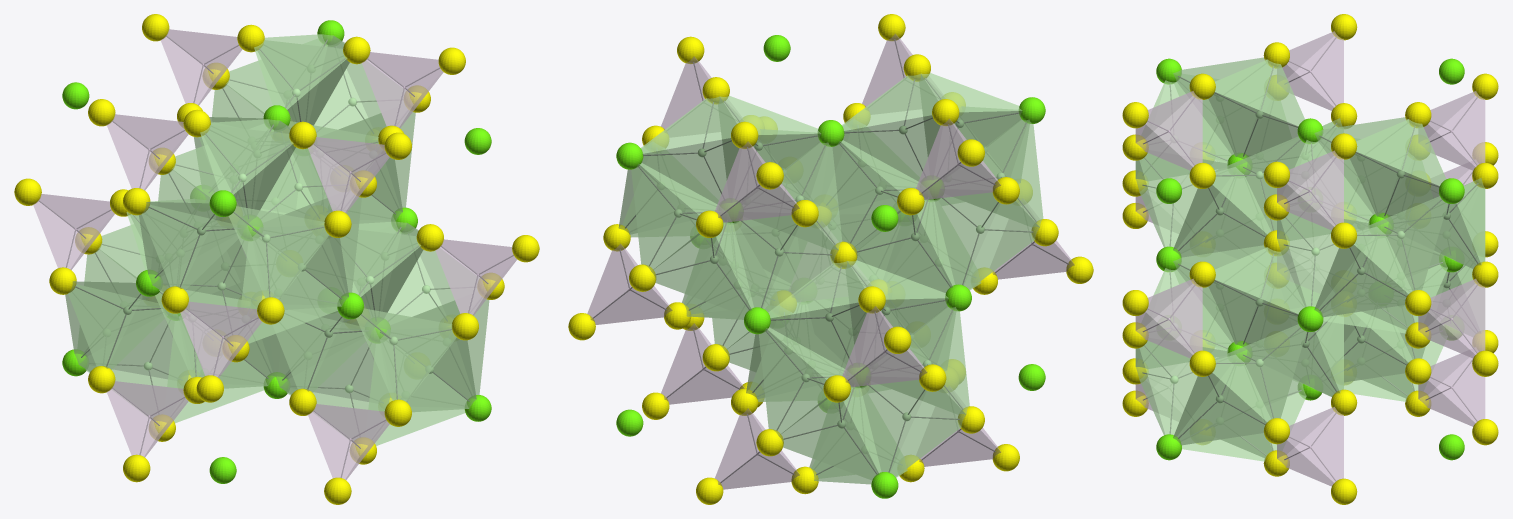
The picture shows the model from 3 angles, left to right: view 1: azimuth 30°, elevation 25°; view 2: azimuth 150°, elevation 25°; view 3: azimuth 270°, elevation 25°; orthographic projection. The views are drawn at different scales.
Visible parts, largest first — view 1: Shape_IndexedFaceSet.186, Shape_IndexedFaceSet.090, Shape_IndexedFaceSet.028, Shape_IndexedFaceSet.023, Shape_IndexedFaceSet.109, Shape_IndexedFaceSet.102, Shape_IndexedFaceSet.151, Shape_IndexedFaceSet.103, Shape_IndexedFaceSet.029, Shape_IndexedFaceSet.173, Shape_IndexedFaceSet.006, Shape_IndexedFaceSet.210 (+146 smaller); view 2: Shape_IndexedFaceSet.014, Shape_IndexedFaceSet.021, Shape_IndexedFaceSet.110, Shape_IndexedFaceSet.165, Shape_IndexedFaceSet.117, Shape_IndexedFaceSet.158, Shape_IndexedFaceSet.181, Shape_IndexedFaceSet.085, Shape_IndexedFaceSet.188, Shape_IndexedFaceSet.092, Shape_IndexedFaceSet.037, Shape_IndexedFaceSet.140 (+122 smaller); view 3: Shape_IndexedFaceSet.152, Shape_IndexedFaceSet.104, Shape_IndexedFaceSet, Shape_IndexedFaceSet.144, Shape_IndexedFaceSet.096, Shape_IndexedFaceSet.056, Shape_IndexedFaceSet.032, Shape_IndexedFaceSet.080, Shape_IndexedFaceSet.164, Shape_IndexedFaceSet.020, Shape_IndexedFaceSet.068, Shape_IndexedFaceSet.071 (+145 smaller).
Boxes of the visible parts, x1,y1,x2,y2 form: Shape_IndexedFaceSet.186: (356,308,456,401); Shape_IndexedFaceSet.090: (229,206,328,299); Shape_IndexedFaceSet.028: (204,125,295,209); Shape_IndexedFaceSet.023: (258,40,349,124); Shape_IndexedFaceSet.109: (68,285,164,369); Shape_IndexedFaceSet.102: (142,205,238,289); Shape_IndexedFaceSet.151: (68,281,143,368); Shape_IndexedFaceSet.103: (142,202,216,288); Shape_IndexedFaceSet.029: (200,125,293,194); Shape_IndexedFaceSet.173: (254,40,347,109); Shape_IndexedFaceSet.006: (276,317,365,391); Shape_IndexedFaceSet.210: (107,114,188,190); Shape_IndexedFaceSet.014: (733,220,833,311); Shape_IndexedFaceSet.021: (641,98,726,203); Shape_IndexedFaceSet.110: (861,384,960,476); Shape_IndexedFaceSet.165: (842,76,927,180); Shape_IndexedFaceSet.117: (769,263,853,368); Shape_IndexedFaceSet.158: (935,197,1034,288); Shape_IndexedFaceSet.181: (654,223,753,315); Shape_IndexedFaceSet.085: (781,387,880,479); Shape_IndexedFaceSet.188: (759,328,844,433); Shape_IndexedFaceSet.092: (631,163,716,268); Shape_IndexedFaceSet.037: (855,200,954,292); Shape_IndexedFaceSet.140: (833,140,917,246); Shape_IndexedFaceSet.152: (1212,324,1306,422); Shape_IndexedFaceSet.104: (1354,196,1447,293); Shape_IndexedFaceSet: (1173,185,1267,257); Shape_IndexedFaceSet.144: (1314,245,1408,317); Shape_IndexedFaceSet.096: (1173,373,1267,445); Shape_IndexedFaceSet.056: (1212,136,1304,234); Shape_IndexedFaceSet.032: (1281,212,1369,306); Shape_IndexedFaceSet.080: (1139,340,1228,434); Shape_IndexedFaceSet.164: (1215,59,1304,125); Shape_IndexedFaceSet.020: (1356,119,1445,185); Shape_IndexedFaceSet.068: (1215,247,1304,313); Shape_IndexedFaceSet.071: (1209,248,1271,343).
Bounding box in the file's own units: 1312 × 1312 × 1312.
